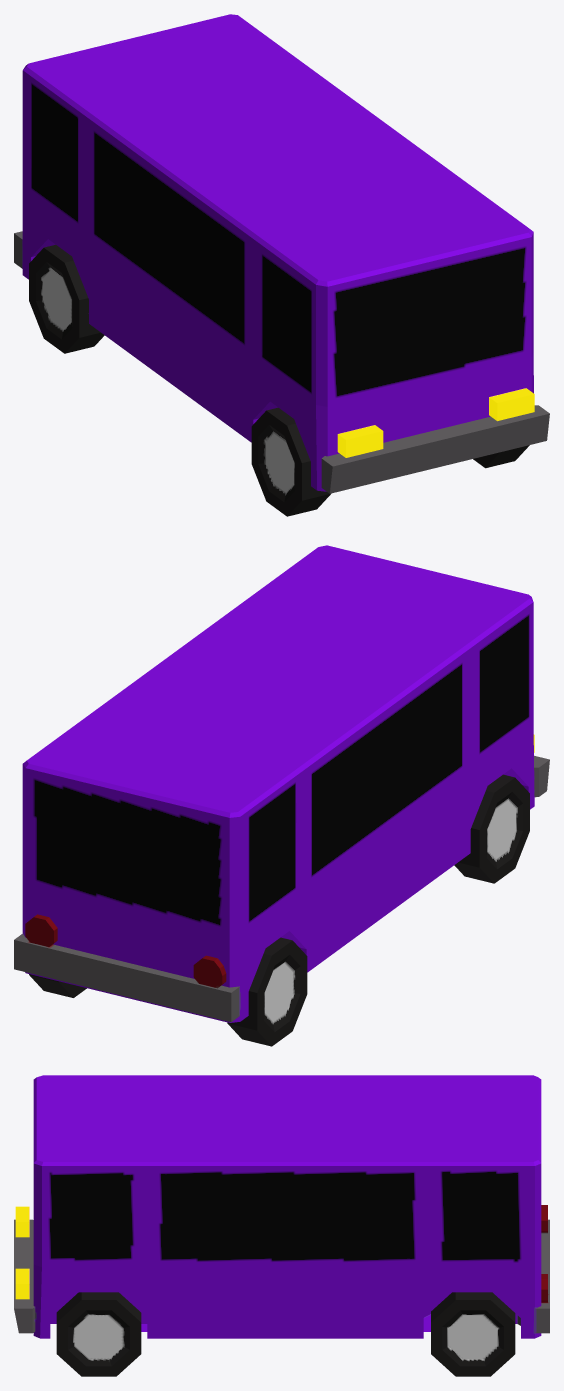
File: Minibus.fbx
3 renders of one model, top to bottom at view 1: azimuth 30°, elevation 25°; view 2: azimuth 150°, elevation 25°; view 3: azimuth 270°, elevation 25°, orthographic. The views are drawn at different scales.
Parts seen in each view (by area): view 1: Minibus; view 2: Minibus; view 3: Minibus.
Boxes of the visible parts, left/top/right/bottom form: Minibus: left=14, top=14, right=549, bottom=516; Minibus: left=14, top=545, right=549, bottom=1046; Minibus: left=14, top=1075, right=549, bottom=1376.
Size of the model in its own units: 178 by 188 by 432.
Materials: 1 (1 with a texture image).
